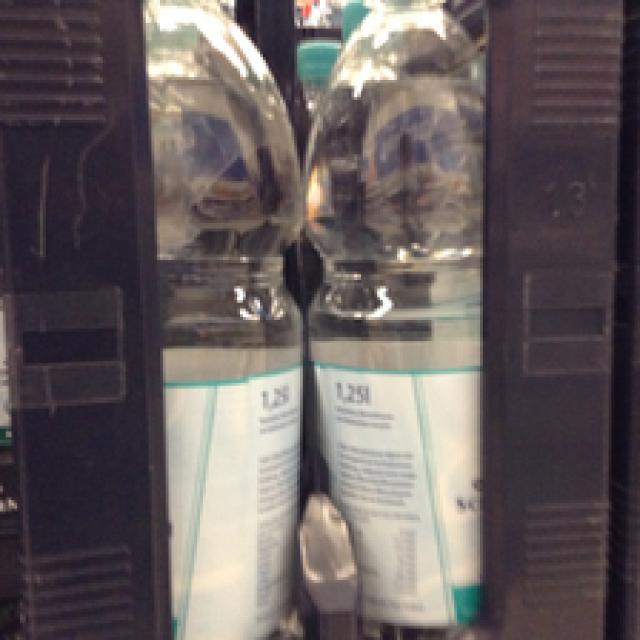groceries: (300, 0, 480, 634), (140, 0, 309, 637)
